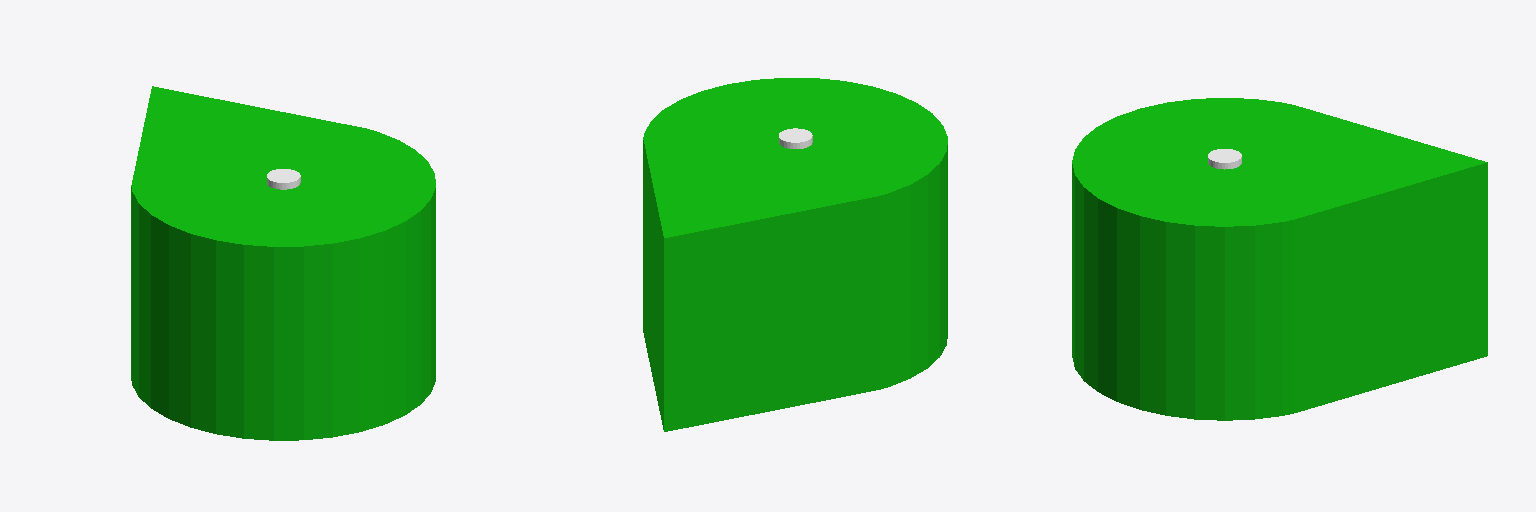
The model's file is me_handle.obj.
3 renders of one model, left to right at view 1: azimuth 30°, elevation 25°; view 2: azimuth 150°, elevation 25°; view 3: azimuth 270°, elevation 25°, orthographic.
Visible parts, largest first — view 1: MeHandle_Cylinder.007; view 2: MeHandle_Cylinder.007; view 3: MeHandle_Cylinder.007.
Boxes of the visible parts, box(x1,y1,x2,y2) form: MeHandle_Cylinder.007: box(131, 86, 435, 440); MeHandle_Cylinder.007: box(643, 78, 947, 431); MeHandle_Cylinder.007: box(1072, 98, 1487, 420).
Bounding box in the file's own units: 2 × 1.45 × 2.72.